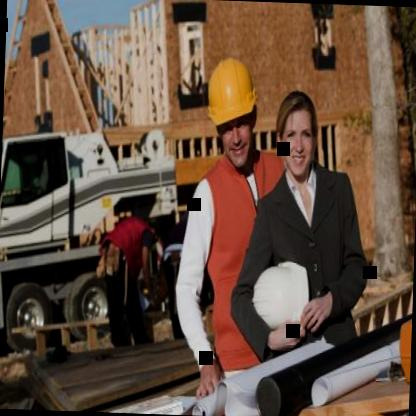helmet: (200, 58, 266, 174)
